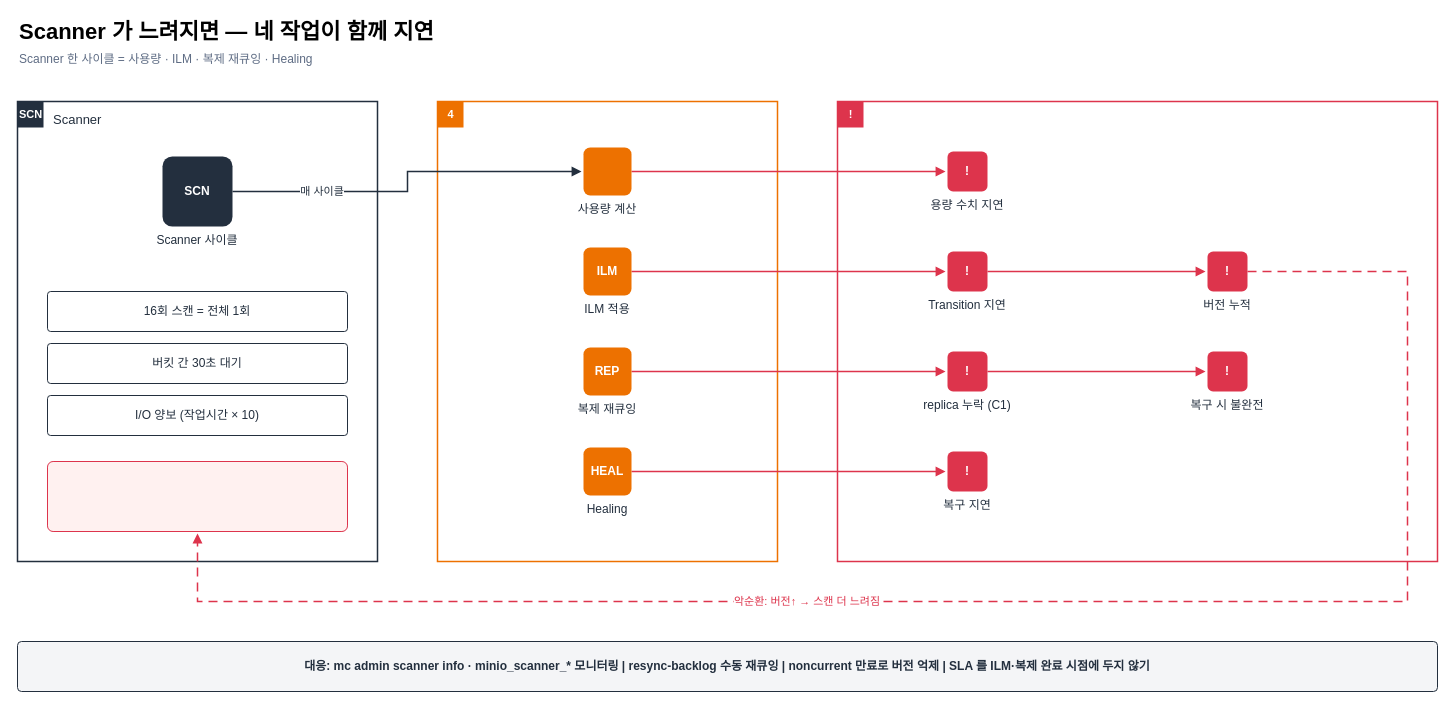
Image size: 1456x709. Some labels were removed from this diagram. The shapes that lost their labels are listed below. From the top down, each one's box as (x1, y1, x2, y2) in pixels, then its label:
(583, 147, 631, 195): USG
(436, 100, 778, 562): 담당 작업
(836, 100, 1438, 562): 지연 시 영향
(46, 460, 348, 532): 느려지는 요인 드라이브 · 네트워크 · 객체 수
